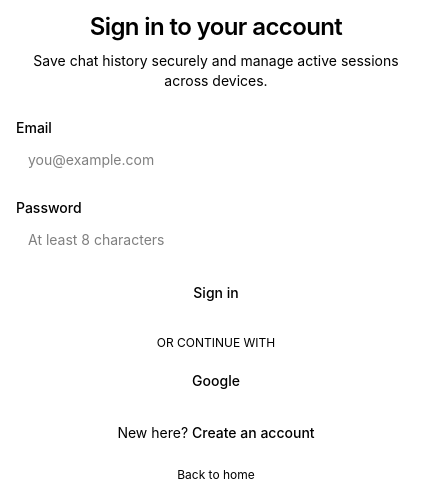
Test: SignInForm Two-Factor challenge › keeps the challenge open after an invalid authenticator code
The image size is (433, 496).
Type "admin@example.com" into the field labelled "Email" at x=216, y=159, box 16,139 -> 416,179
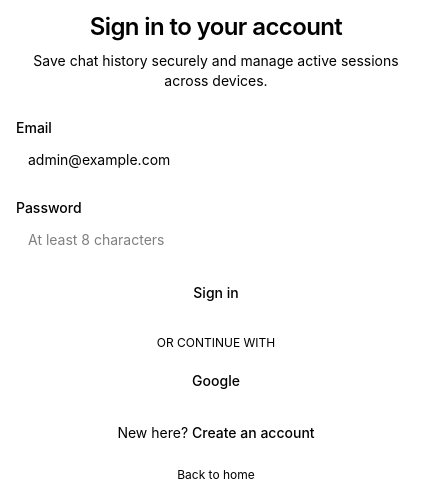
Type "correct horse battery staple" into the password field labelled "Password" at x=216, y=239, box 16,219 -> 416,259
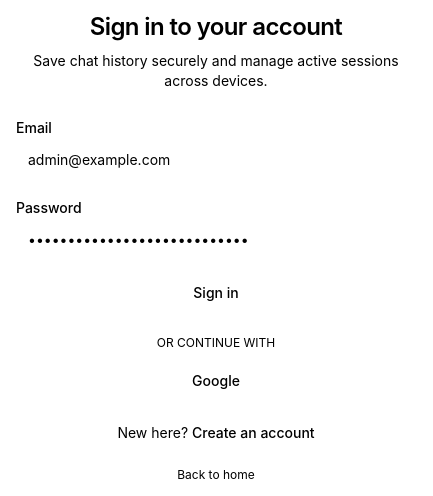
Click the button "Sign in" at x=216, y=293, box 16,275 -> 416,311
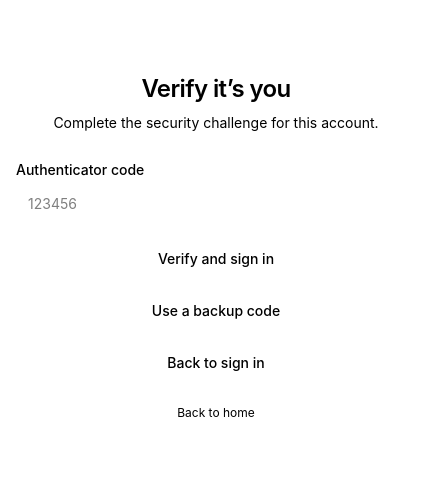
Type "000000" into the field labelled "Authenticator code" at x=216, y=203, box 16,181 -> 416,225
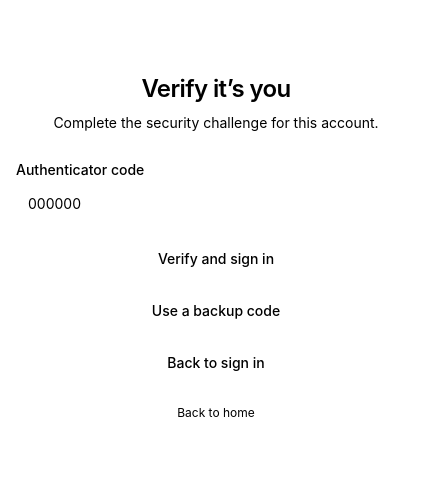
Click the button "Verify and sign in" at x=216, y=259, box 16,241 -> 416,277
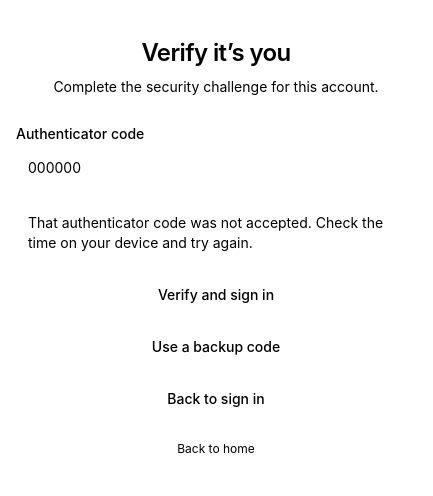
Expected: the message shows "code was not accepted", 28,214 -> 383,251
